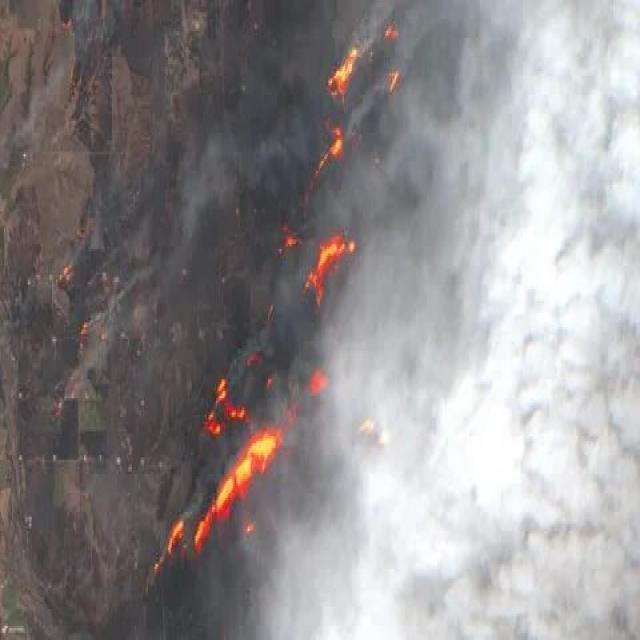Fire: (168, 372, 295, 565), (267, 214, 369, 326)
Smoke: (381, 0, 640, 637)
